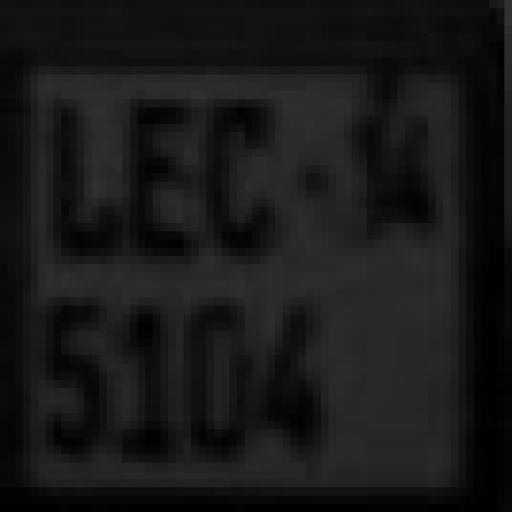0: (188, 296, 252, 464)
1: (122, 304, 178, 461)
4: (266, 301, 337, 463)
5: (46, 295, 110, 453)
C: (202, 92, 280, 260)
E: (127, 99, 198, 267)
L: (52, 95, 120, 264)
